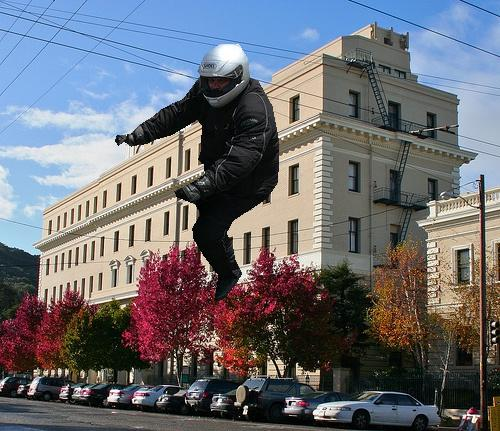tampered: (116, 45, 279, 301)
